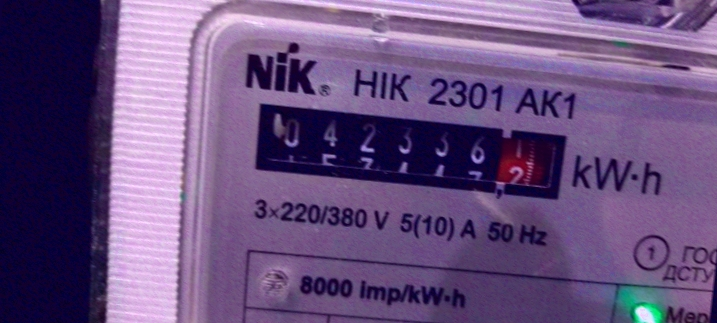0: (279, 113, 302, 148)
1: (509, 132, 524, 159)
2: (355, 118, 380, 154), (504, 163, 523, 185)
3: (392, 121, 414, 154), (431, 125, 451, 158)
4: (320, 114, 340, 147)
6: (465, 130, 489, 166)
screen: (238, 87, 581, 213)
